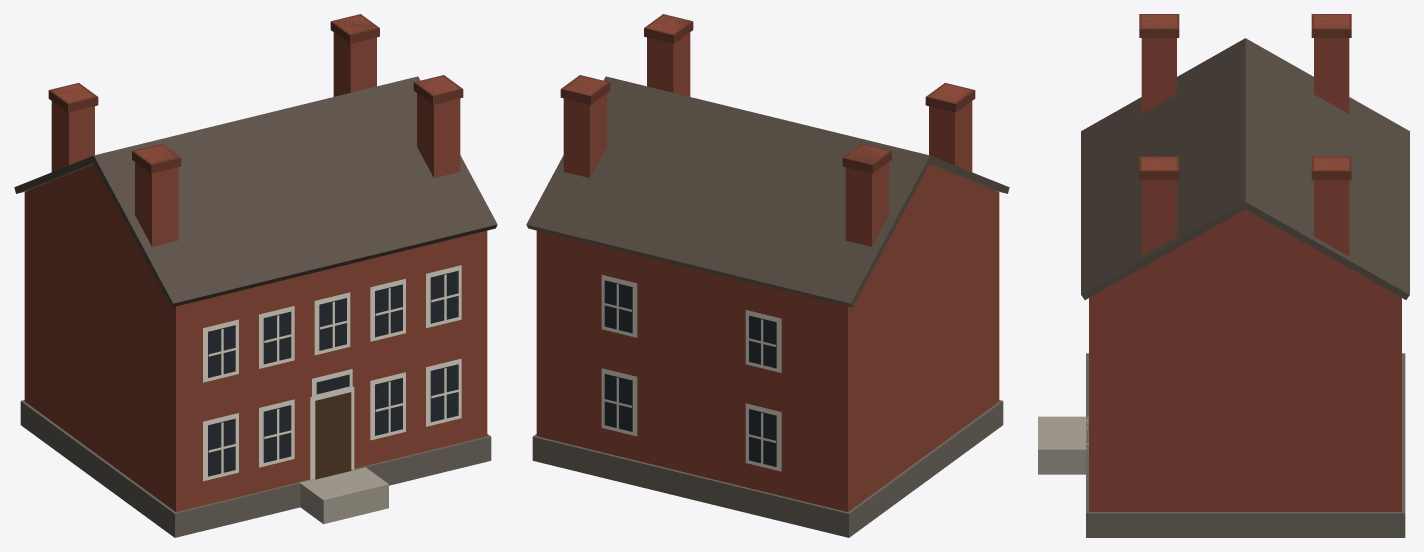
File: brick_house.glb
3 renders of one model, left to right at view 1: azimuth 30°, elevation 25°; view 2: azimuth 150°, elevation 25°; view 3: azimuth 270°, elevation 25°, orthographic. The views are drawn at different scales.
Visible parts, largest first — view 1: brick_house; view 2: brick_house; view 3: brick_house.
Part boxes in pixels (bbox=[...]): brick_house: bbox=[14, 14, 497, 537]; brick_house: bbox=[526, 14, 1009, 537]; brick_house: bbox=[1038, 14, 1409, 537].
Size of the model in its own units: 9.9 by 10.3 by 9.5.
